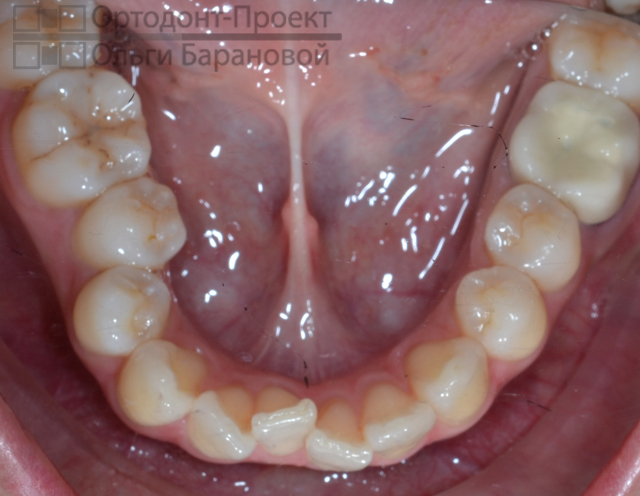LL1BC_healthy: (456, 268, 546, 357)
LL1M_decay: (514, 85, 635, 209)
LL2BC_decay: (486, 183, 580, 285)
LL2M_decay: (553, 13, 639, 92)
LLCI_healthy: (312, 400, 369, 472)
LLC_healthy: (409, 338, 488, 411)
LLLI_healthy: (365, 388, 435, 450)
LR1BC_decay: (73, 268, 170, 355)
LR1M_decay: (15, 71, 150, 203)
LR2BC_decay: (78, 178, 185, 267)
LRCI_healthy: (253, 389, 315, 452)
LRC_decay: (120, 338, 198, 425)
LRLI_healthy: (188, 389, 254, 462)
